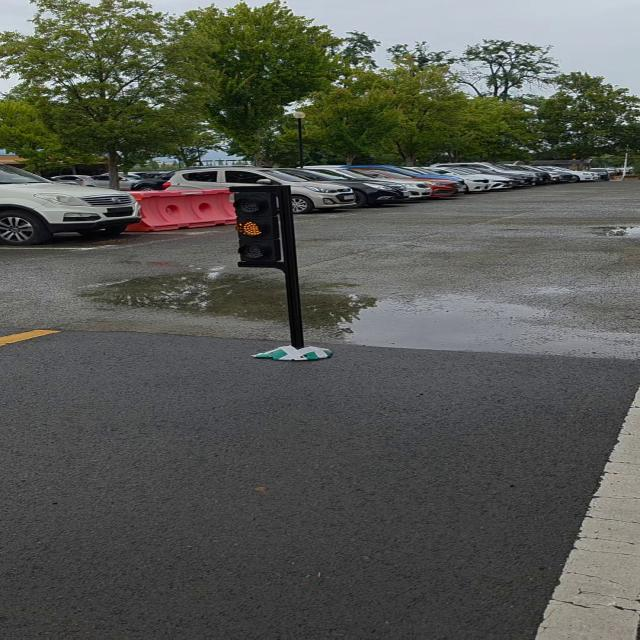yellow: (238, 184, 292, 267)
